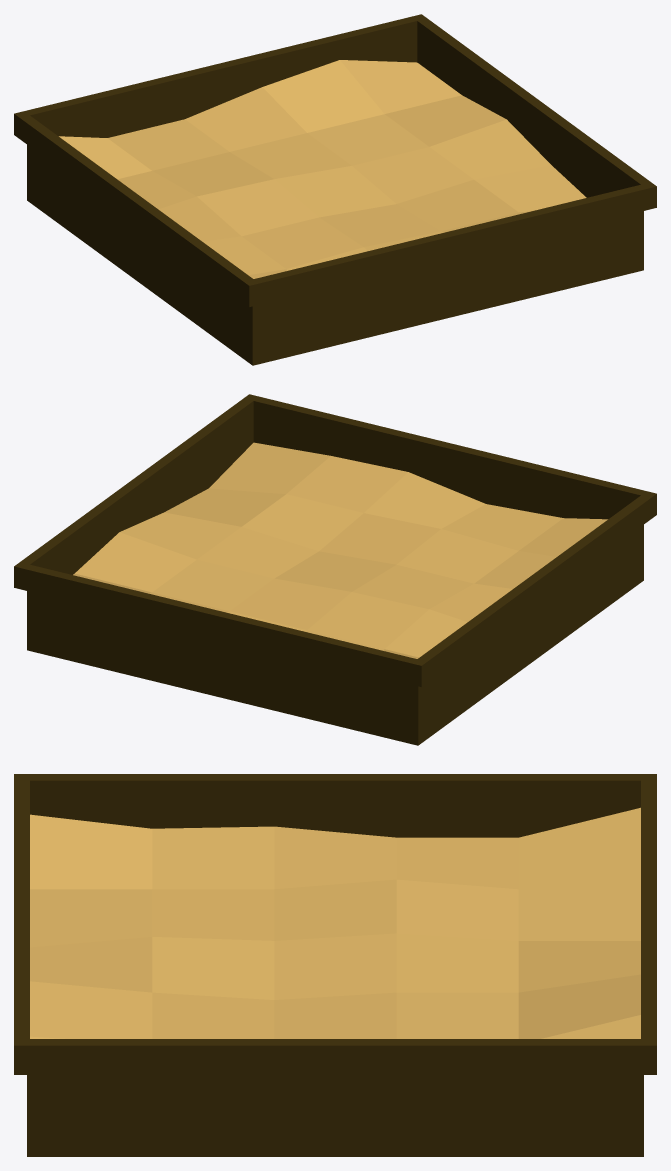
Rendered from Sand Pit.fbx.
3 views of the same model, one above another, from view 1: azimuth 30°, elevation 25°; view 2: azimuth 150°, elevation 25°; view 3: azimuth 270°, elevation 25° (orthographic). The views are drawn at different scales.
Visible parts, largest first — view 1: Sand Pit; view 2: Sand Pit; view 3: Sand Pit.
Boxes of the visible parts, bbox=[...] form: Sand Pit: bbox=[14, 14, 656, 365]; Sand Pit: bbox=[14, 394, 656, 745]; Sand Pit: bbox=[14, 774, 656, 1156].
Bounding box in the file's own units: 200 × 40 × 200.
